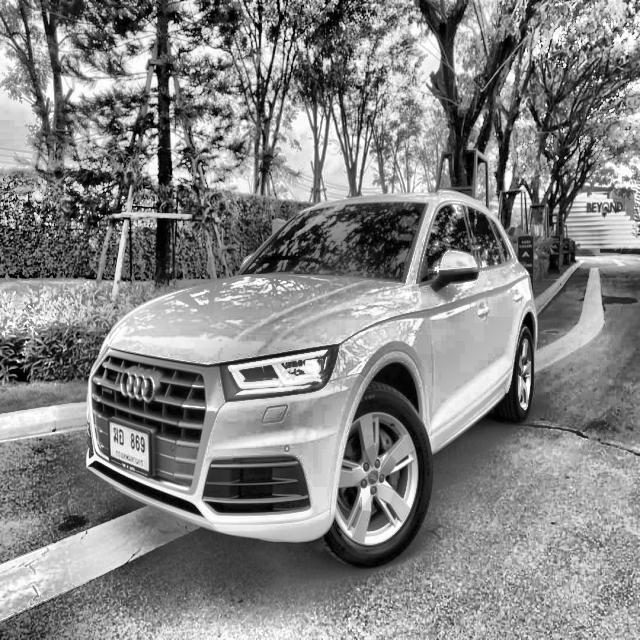license-plate: (106, 414, 157, 480)
